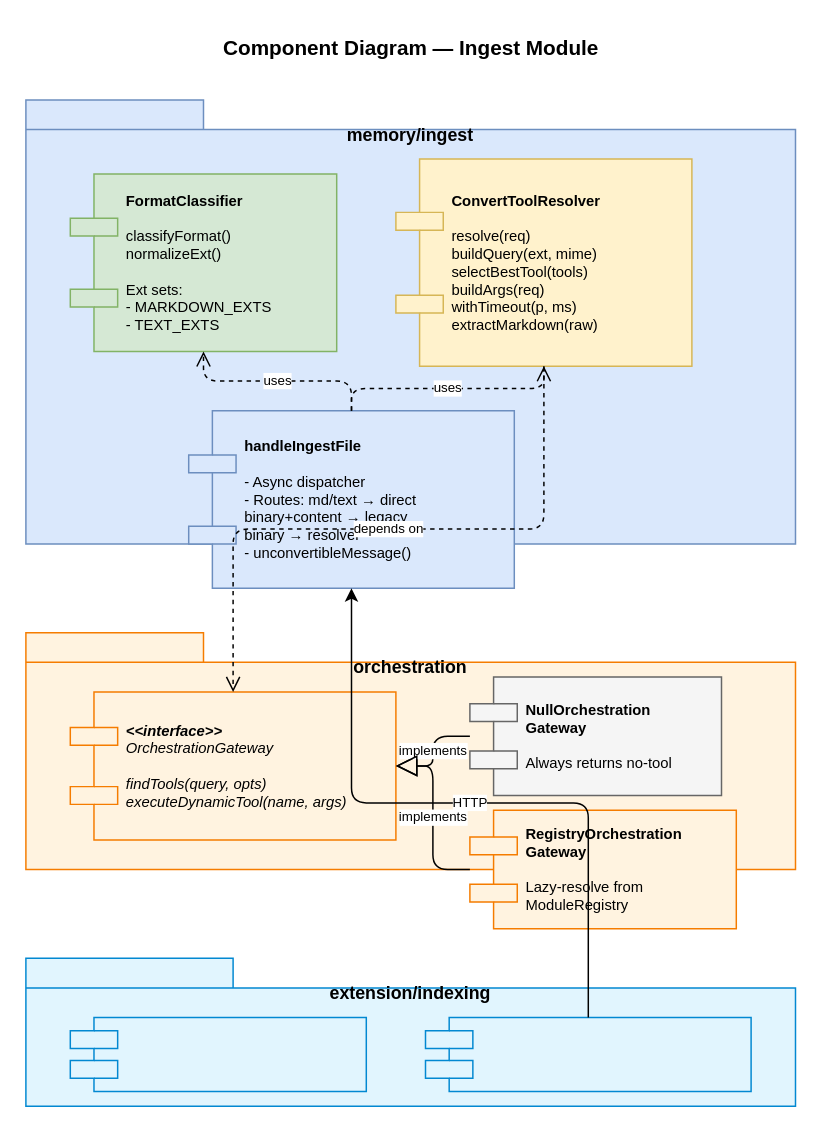
This 821x1132 diagram has some shape labels left out. The shapes that lost their labels are listed below. From the top down, each one's centre as x and y in pixels, then its label:
At (x=217, y=1054): "IndexingService indexDocuments() parseUnconvertible()".
At (x=587, y=1054): "IndexerHttpClient POST /api/v1/memory/ingest-file".
